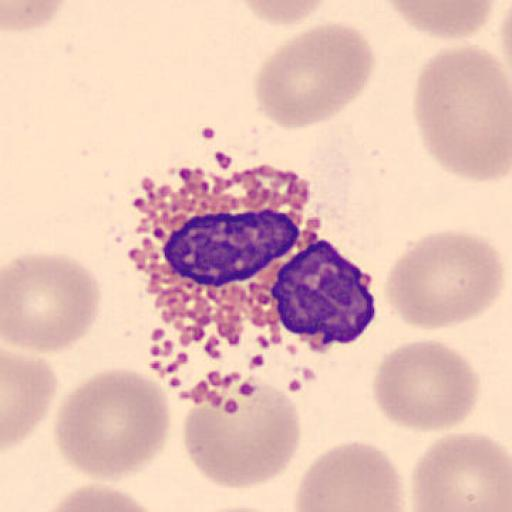RBC: (411, 44, 512, 184), (182, 373, 302, 490), (251, 21, 378, 130), (53, 366, 172, 482), (384, 229, 506, 332), (371, 337, 481, 435), (2, 250, 102, 354), (293, 438, 407, 512), (409, 430, 511, 512), (2, 346, 58, 452), (377, 0, 496, 41), (36, 484, 176, 512), (234, 0, 333, 27), (2, 0, 71, 34), (190, 503, 293, 512)
WBC: (142, 158, 378, 385)
